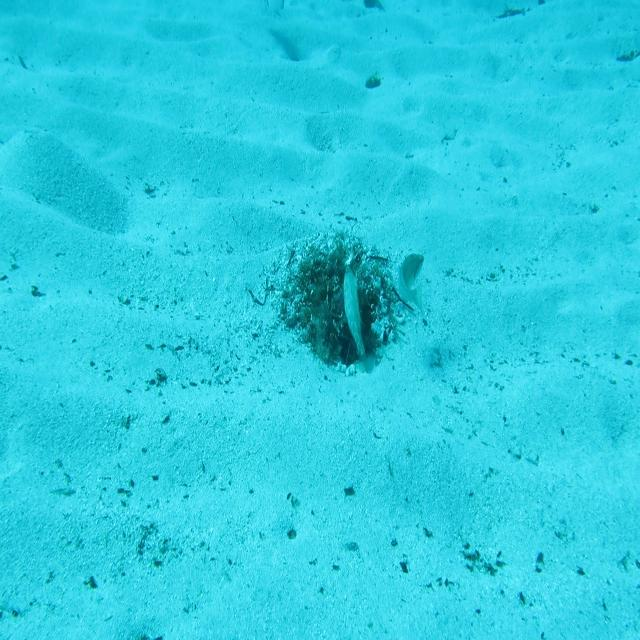ROLL: (334, 245, 379, 364)
female: (395, 244, 432, 318)
nest: (273, 232, 403, 369)
